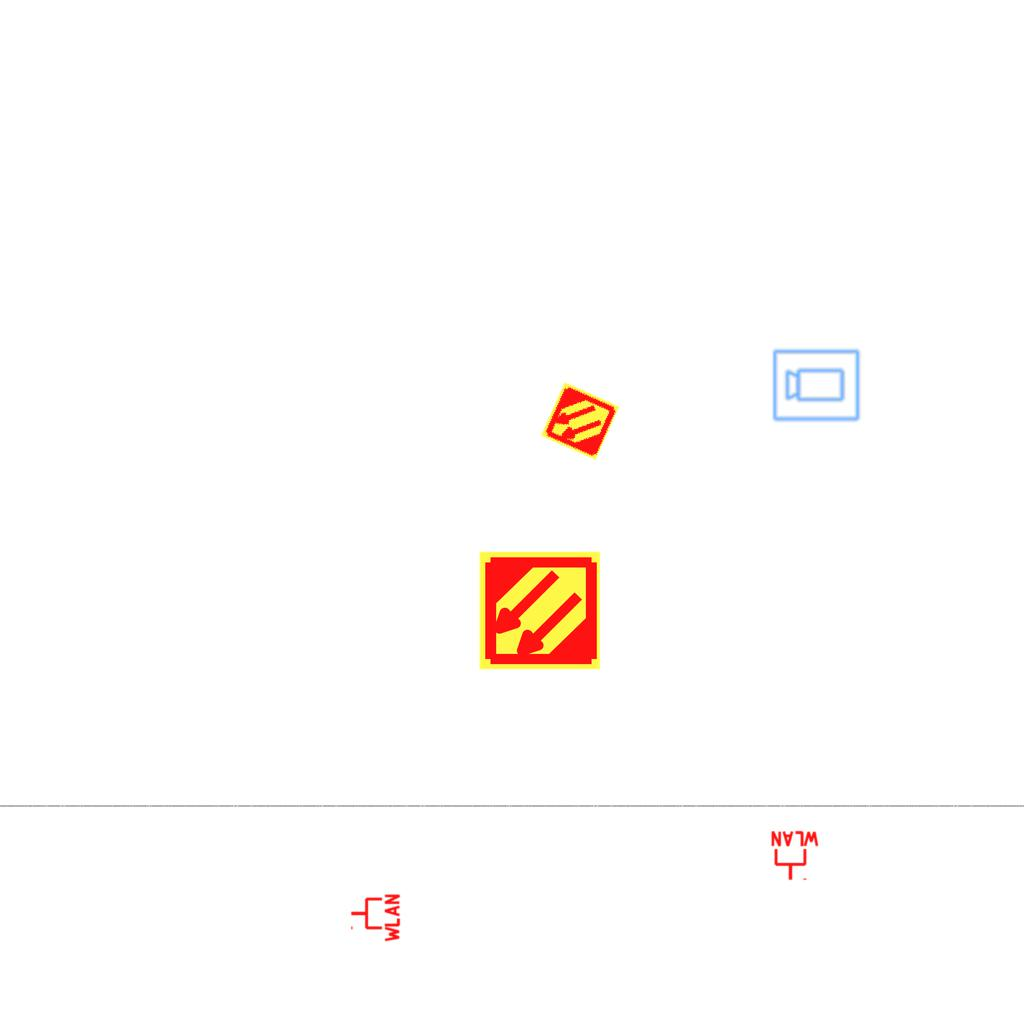ASR_Ansaugrauchmelder: (477, 548, 602, 673), (539, 380, 621, 462)
KFO_Kamera_mit_Festobjektiv: (771, 346, 862, 423)
WLAN: (349, 892, 401, 944), (769, 830, 821, 882)
